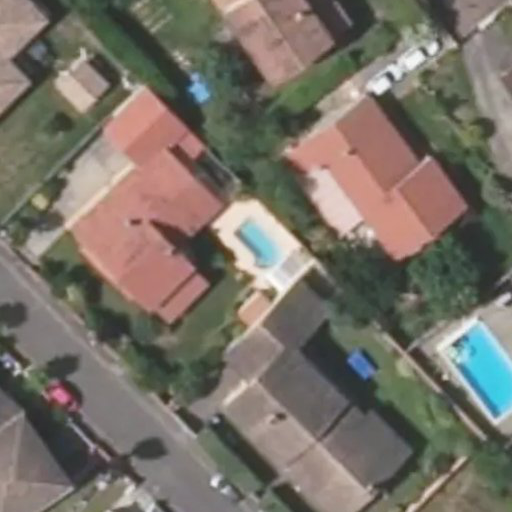pool: (442, 324, 512, 424), (232, 217, 282, 268), (177, 72, 212, 107)
